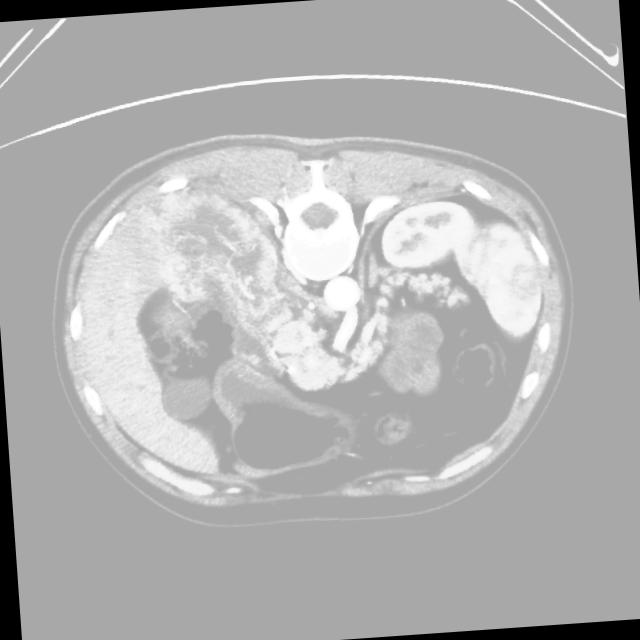TUMOR: (135, 180, 487, 454)
